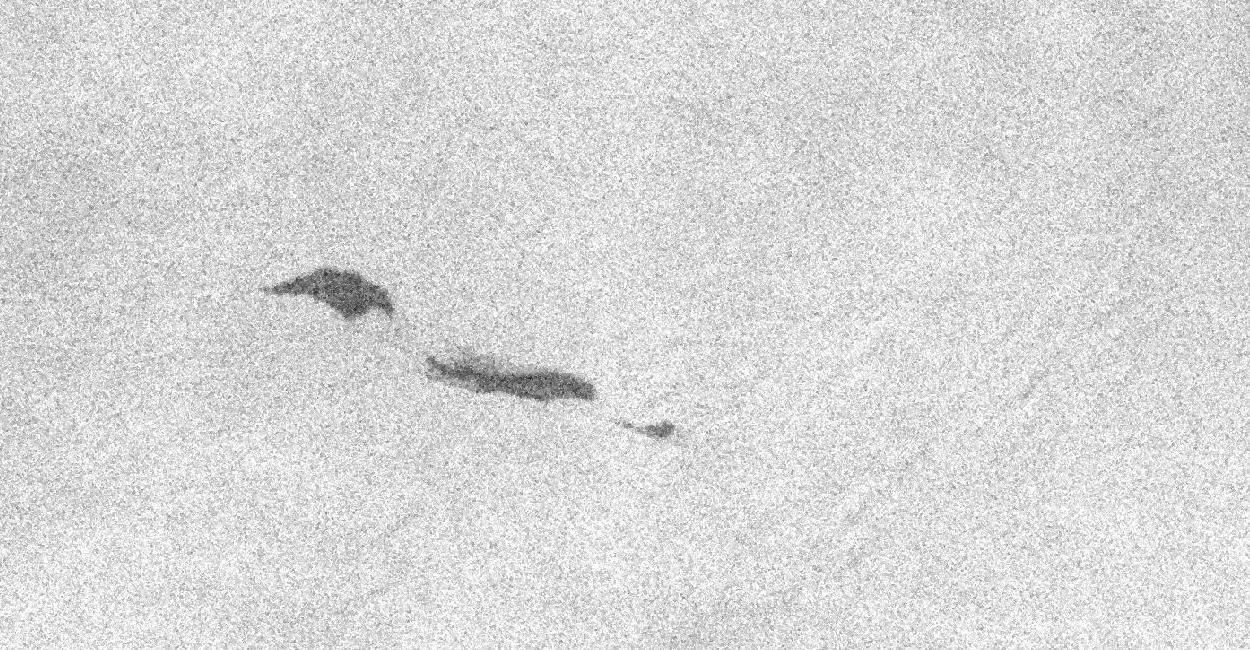Oil Spill: (250, 258, 604, 416), (620, 416, 690, 447), (372, 314, 374, 316), (436, 344, 440, 345), (506, 350, 510, 351)
